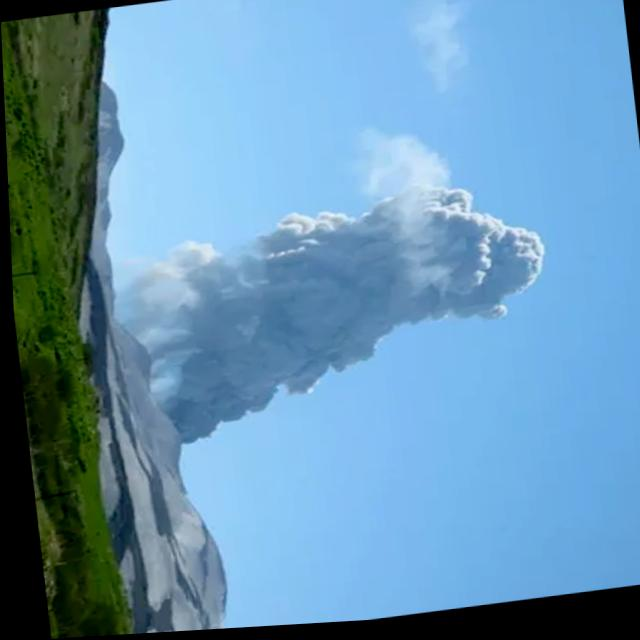Smoke: (122, 177, 556, 451)
